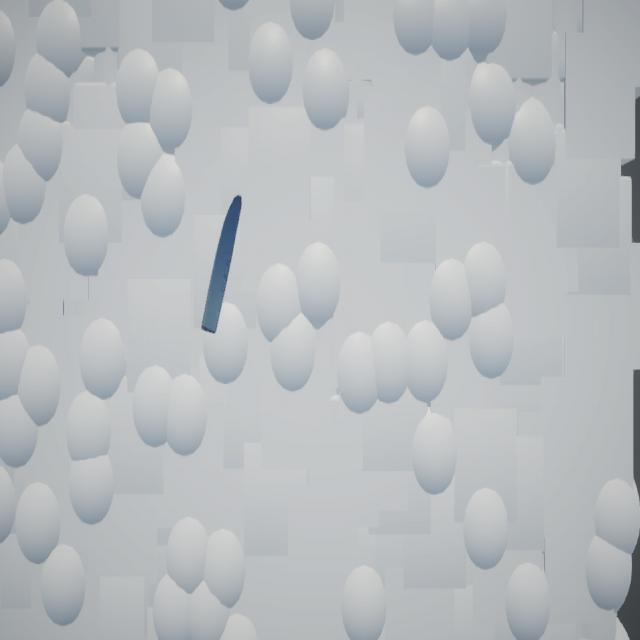top_knife: (202, 196, 243, 336)
